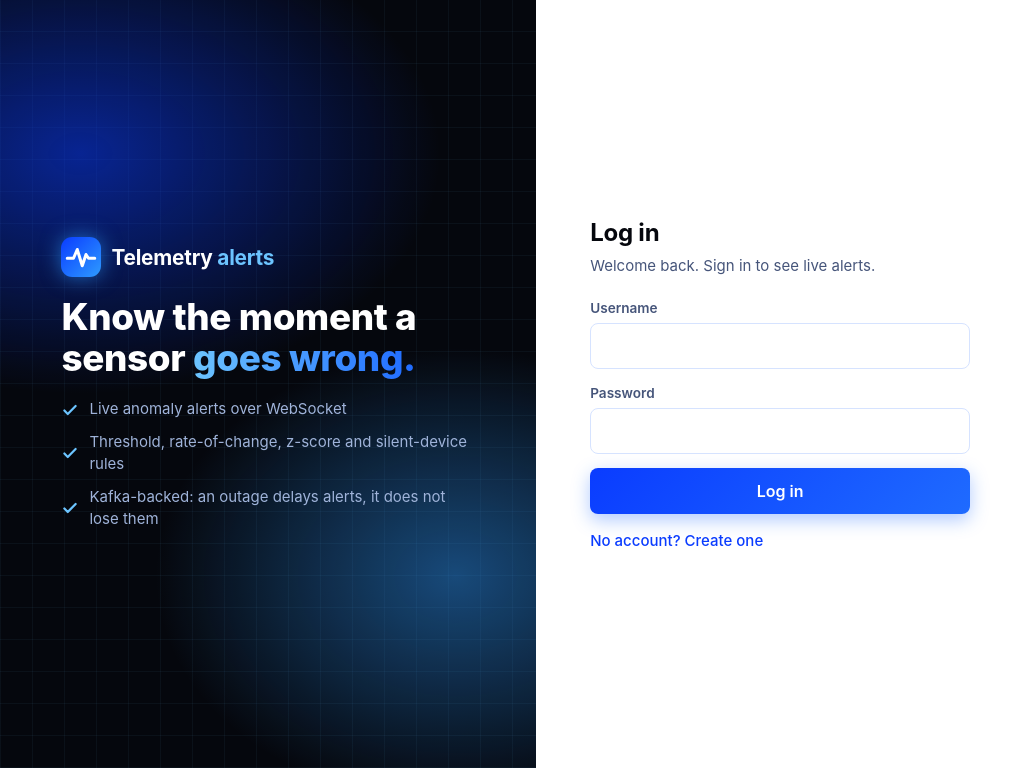
Test case: login flow › shows the server's error on a failed login
This screenshot has width=1024, height=768.
Expected: the heading "Log in" is shown, [590, 218, 659, 247]
Type "vic" into the field labelled "Username".
click(780, 346); type("vic")  # box [590, 323, 970, 369]
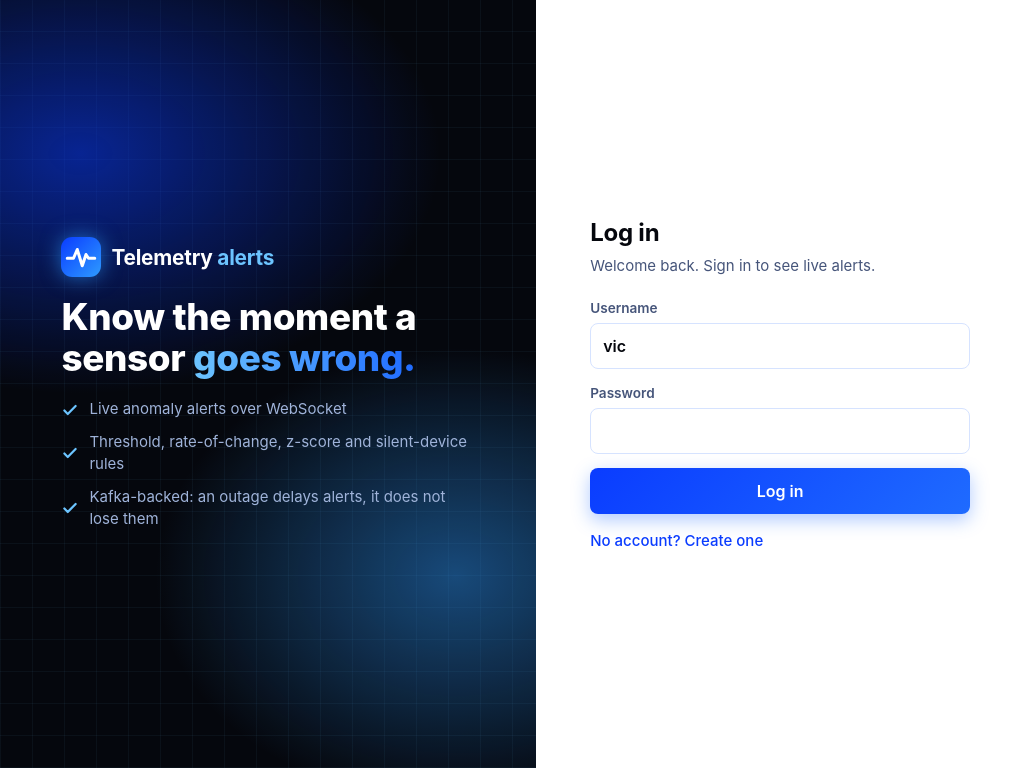
Type "wrong" into the password field labelled "Password".
click(780, 431); type("wrong")  # box [590, 408, 970, 454]
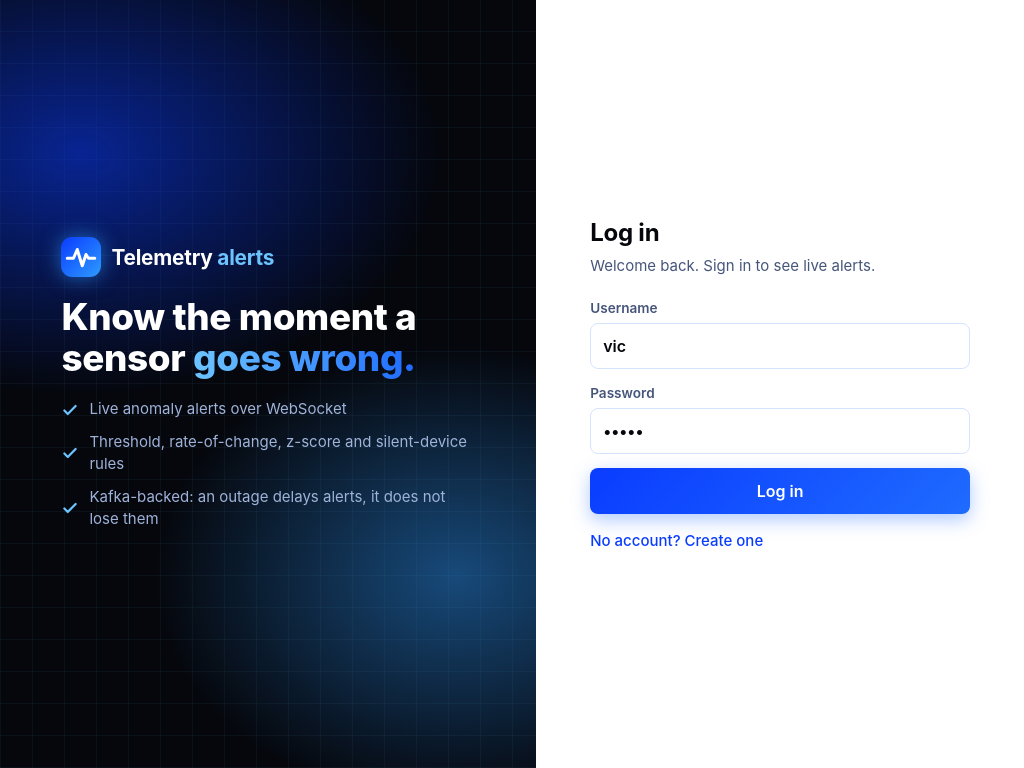
Click the button "Log in".
click(780, 491)  # box [590, 468, 970, 514]
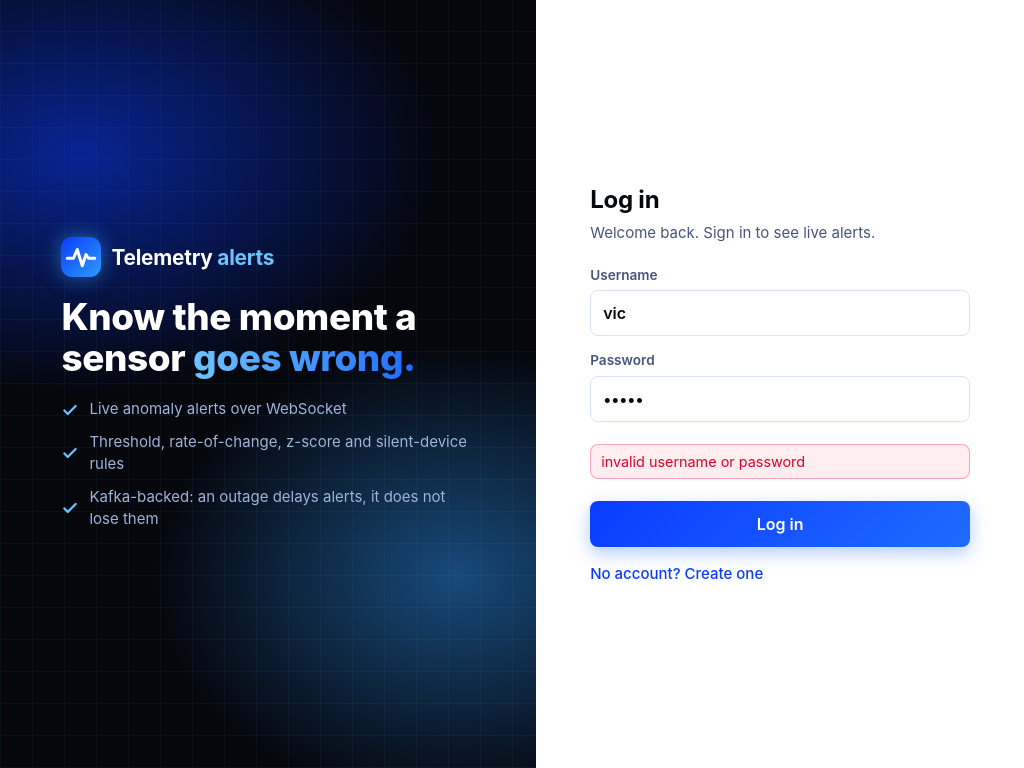
Now the message reads "invalid username or password", box [601, 453, 805, 470]
